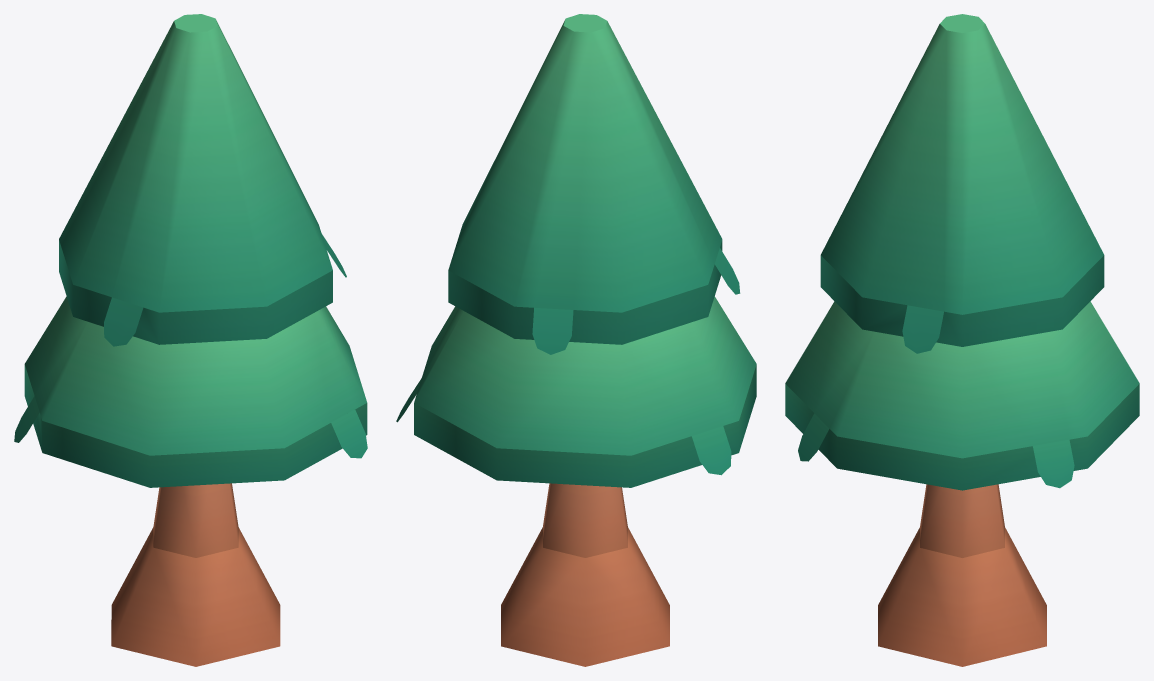
Rendered from kenney-castle-tree-small.glb.
3 views of the same model, side by side, from view 1: azimuth 30°, elevation 25°; view 2: azimuth 150°, elevation 25°; view 3: azimuth 270°, elevation 25° (orthographic).
Parts seen in each view (by area): view 1: tree-small; view 2: tree-small; view 3: tree-small.
Boxes of the visible parts, bbox=[...] form: tree-small: bbox=[14, 14, 367, 666]; tree-small: bbox=[396, 14, 756, 666]; tree-small: bbox=[785, 14, 1139, 666].
Bounding box in the file's own units: 0.7381 × 1.35 × 0.72.
Materials: 1 (1 with a texture image).
